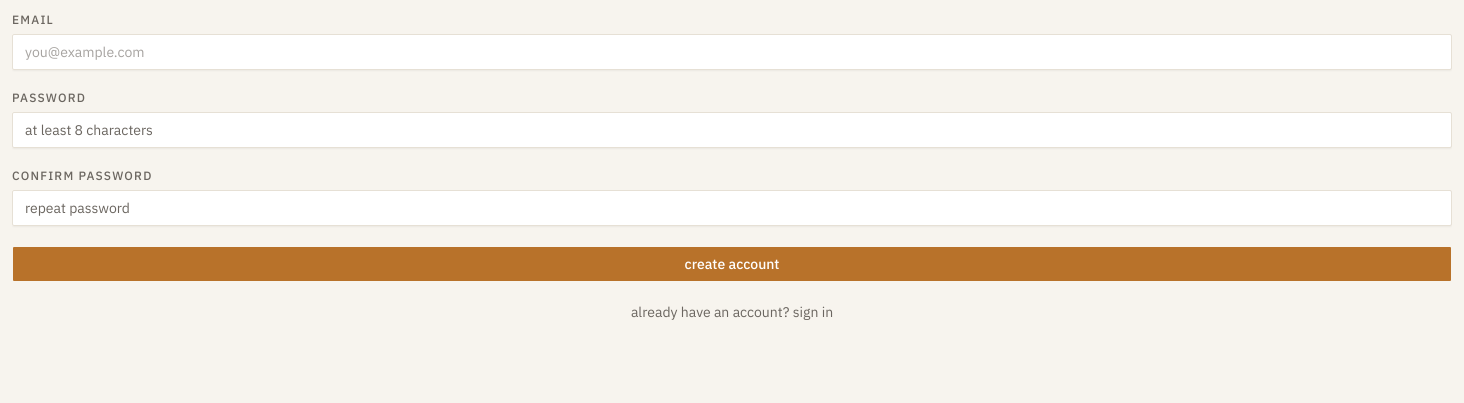
Test: SignupForm › shows required error when email is empty on submit
Click the button with test id "signup-submit". click: (732, 264)
box: [12,246,1452,282]
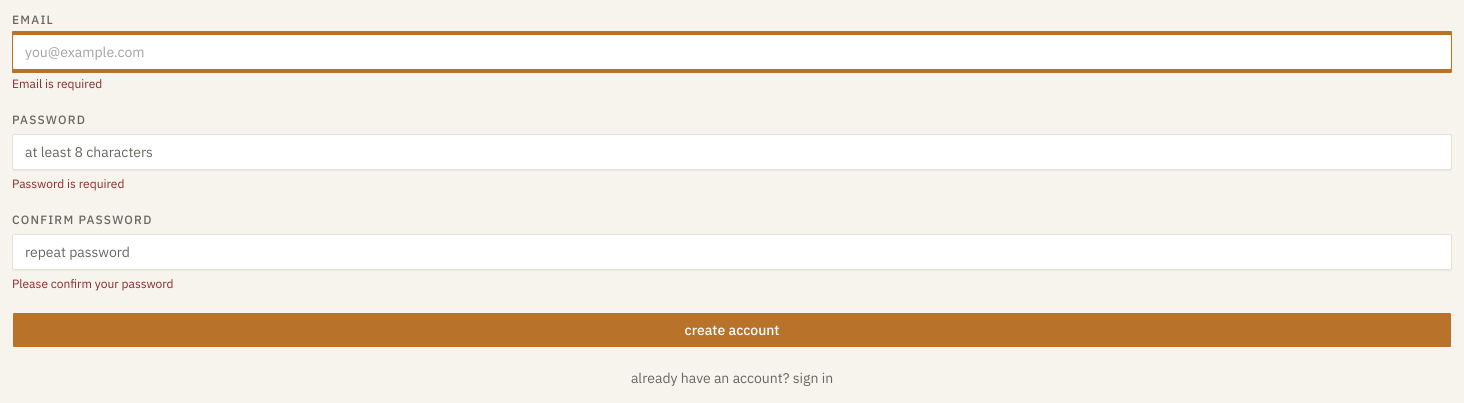
Result: the text "Email is required" is shown at [12,76,102,91]
